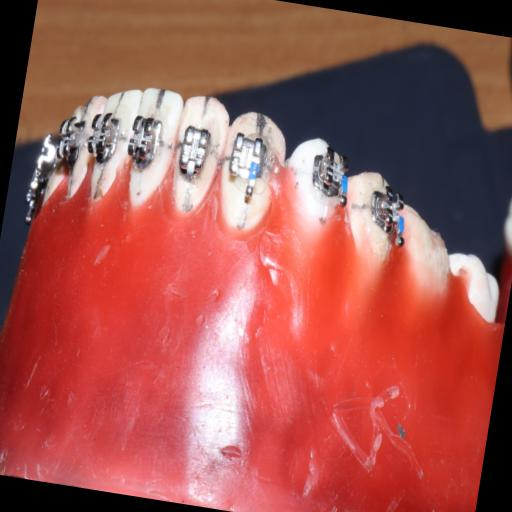correct_brace: (173, 122, 215, 189)
incorrect_brace: (162, 86, 234, 226), (222, 124, 274, 210)
